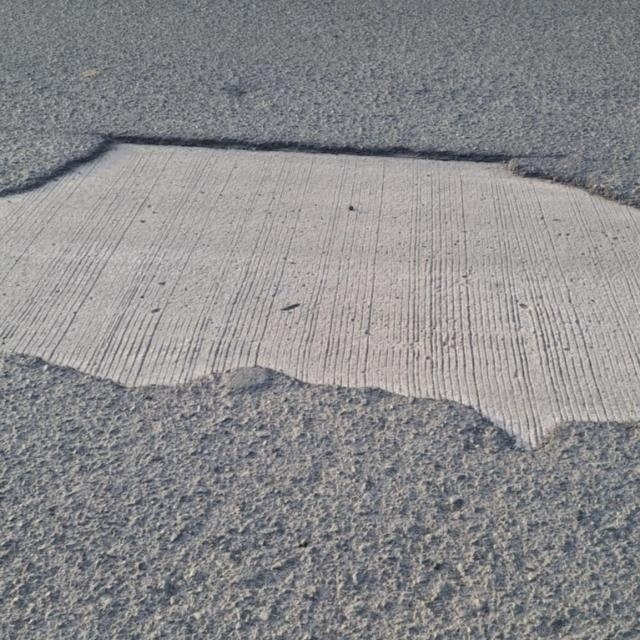pothole: (29, 59, 640, 524)
